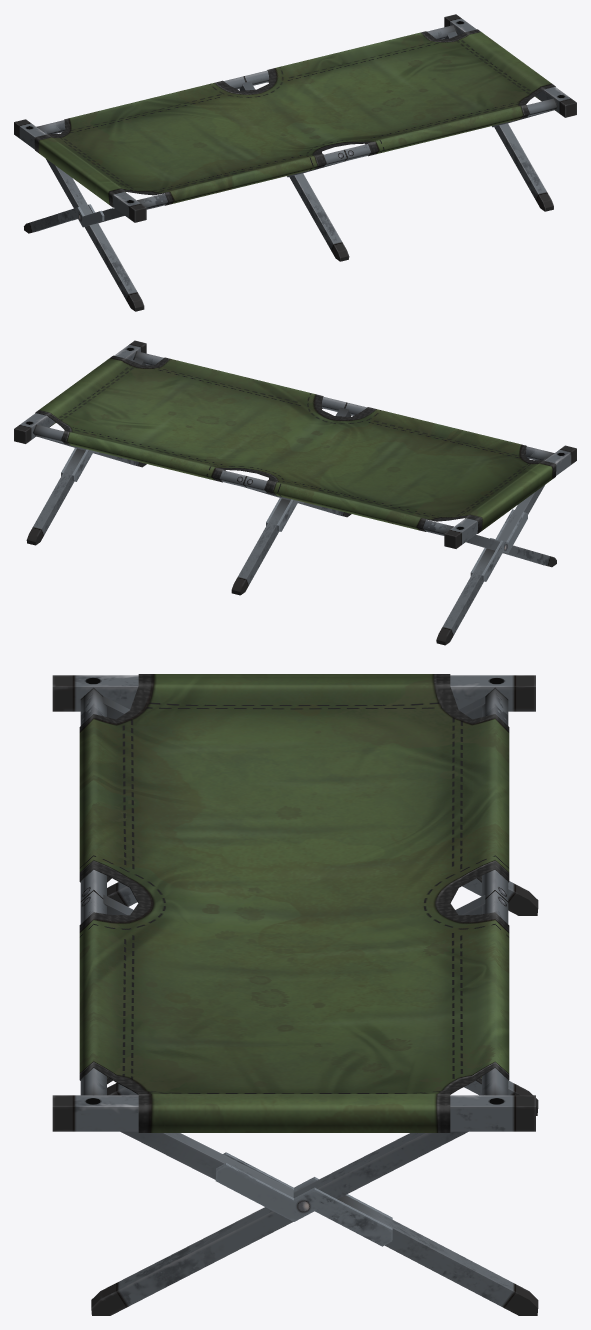
The model's file is bed06.fbx.
3 renders of one model, top to bottom at view 1: azimuth 30°, elevation 25°; view 2: azimuth 150°, elevation 25°; view 3: azimuth 270°, elevation 25°, orthographic. The views are drawn at different scales.
Visible parts, largest first — view 1: bed06; view 2: bed06; view 3: bed06.
Part boxes in pixels (x1,y1,x2,y2): bed06: (14,14,576,311); bed06: (14,340,576,645); bed06: (52,674,538,1315).
Bounding box in the file's own units: 212 × 50.95 × 100.
